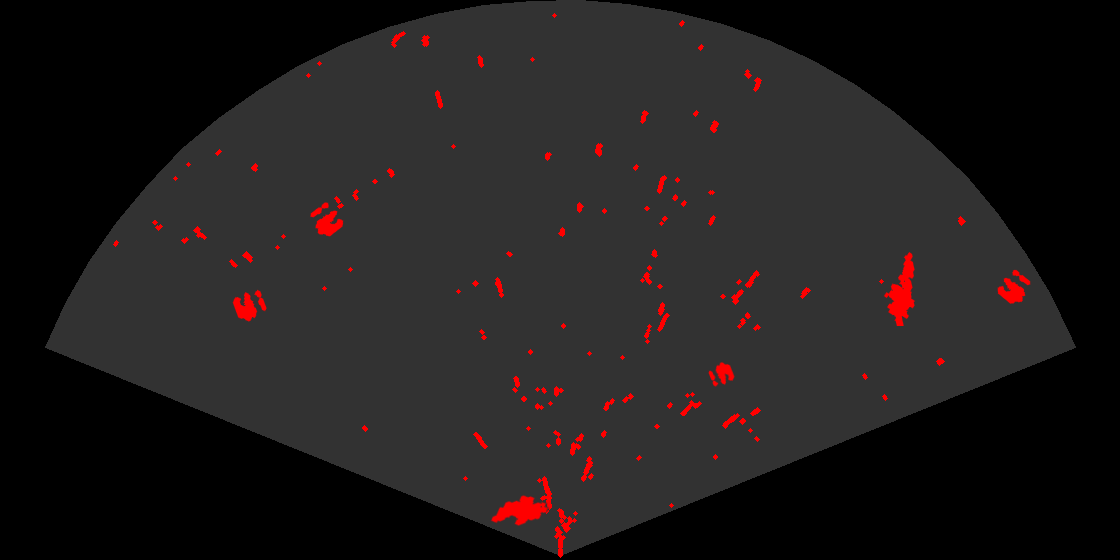AUV: (489, 494, 550, 528)
ball: (996, 268, 1032, 305), (309, 201, 345, 238), (231, 288, 268, 323), (707, 360, 736, 388)
frogman: (882, 250, 916, 326)
